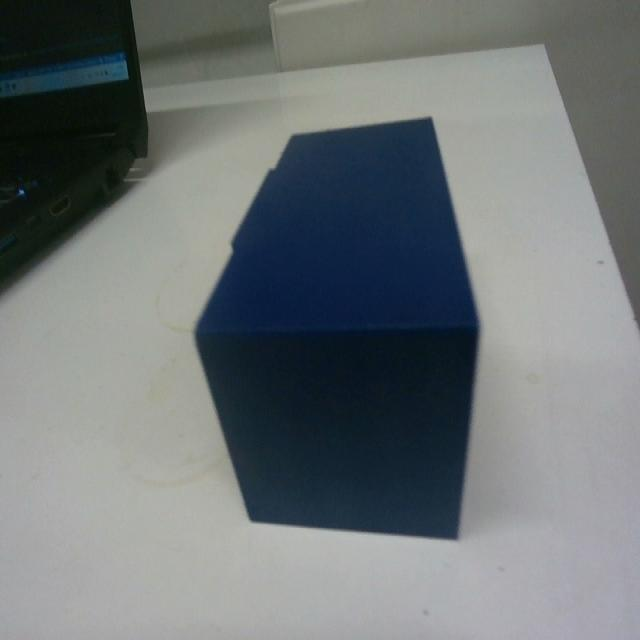Blue Cuboid: (192, 112, 483, 541)
